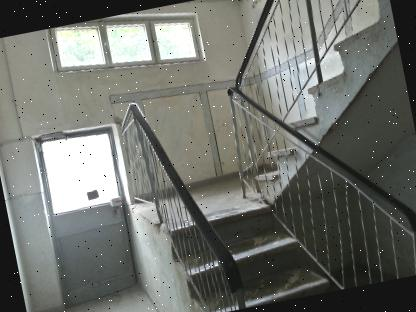stair: (167, 183, 335, 312)
